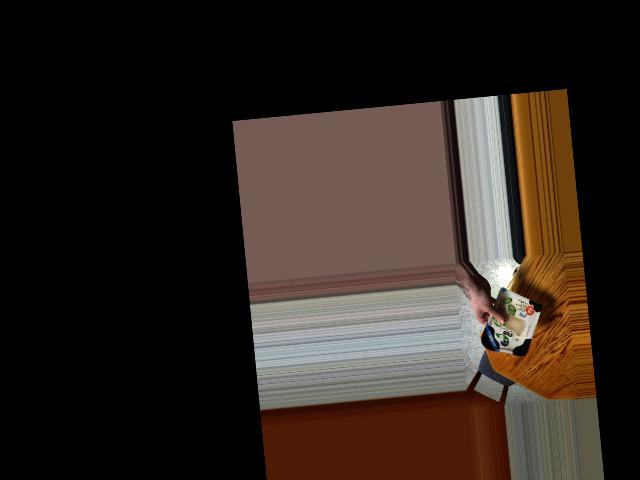cheese: (473, 291, 542, 360)
